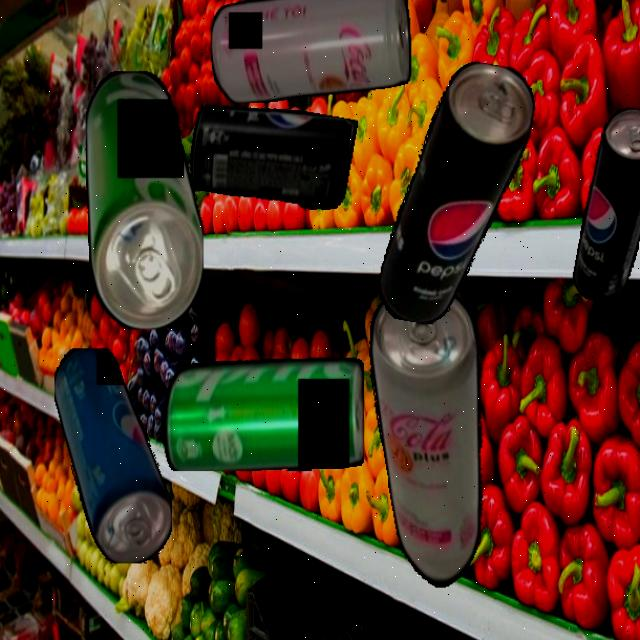debris: (356, 276, 518, 599), (374, 52, 540, 336), (85, 70, 204, 330), (54, 348, 172, 564), (163, 357, 364, 471), (185, 93, 358, 215), (210, 0, 411, 103), (569, 103, 640, 307)
